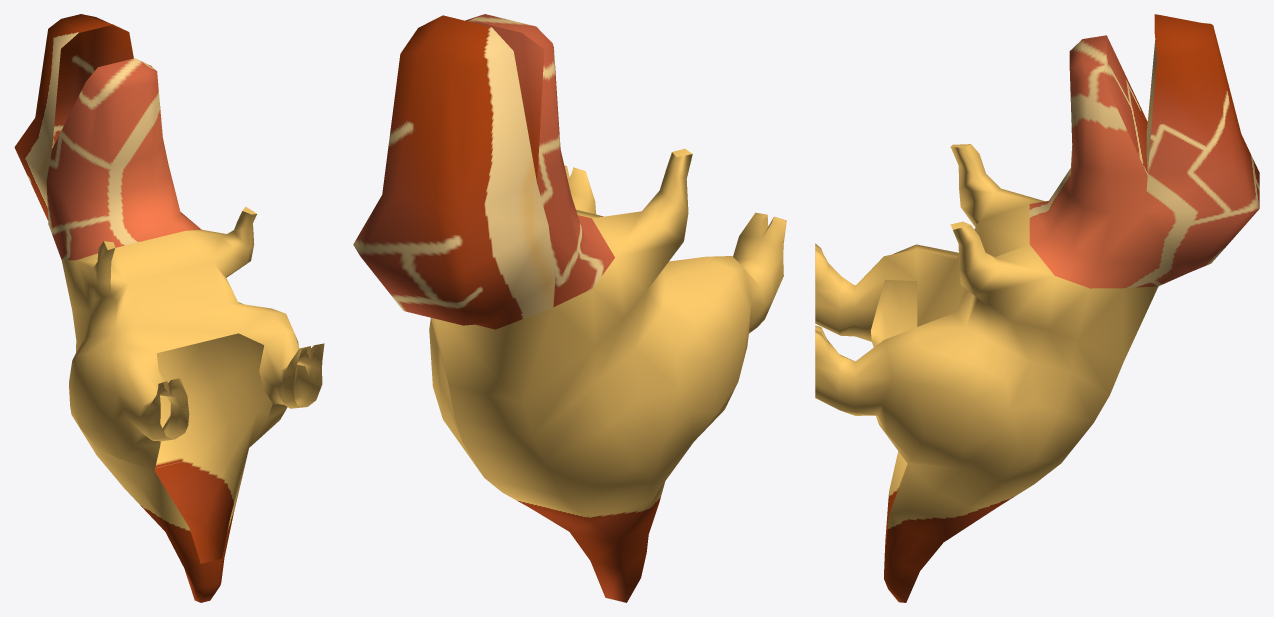
File: T-Rex (1).fbx
3 renders of one model, left to right at view 1: azimuth 30°, elevation 25°; view 2: azimuth 150°, elevation 25°; view 3: azimuth 270°, elevation 25°, orthographic. The views are drawn at different scales.
Visible parts, largest first — view 1: Rex; view 2: Rex; view 3: Rex.
Part boxes in pixels (x1=…): Rex: x1=14, y1=14, x2=324, y2=602; Rex: x1=353, y1=14, x2=786, y2=602; Rex: x1=815, y1=14, x2=1259, y2=602.
Bounding box in the file's own units: 362 × 849 × 594.
